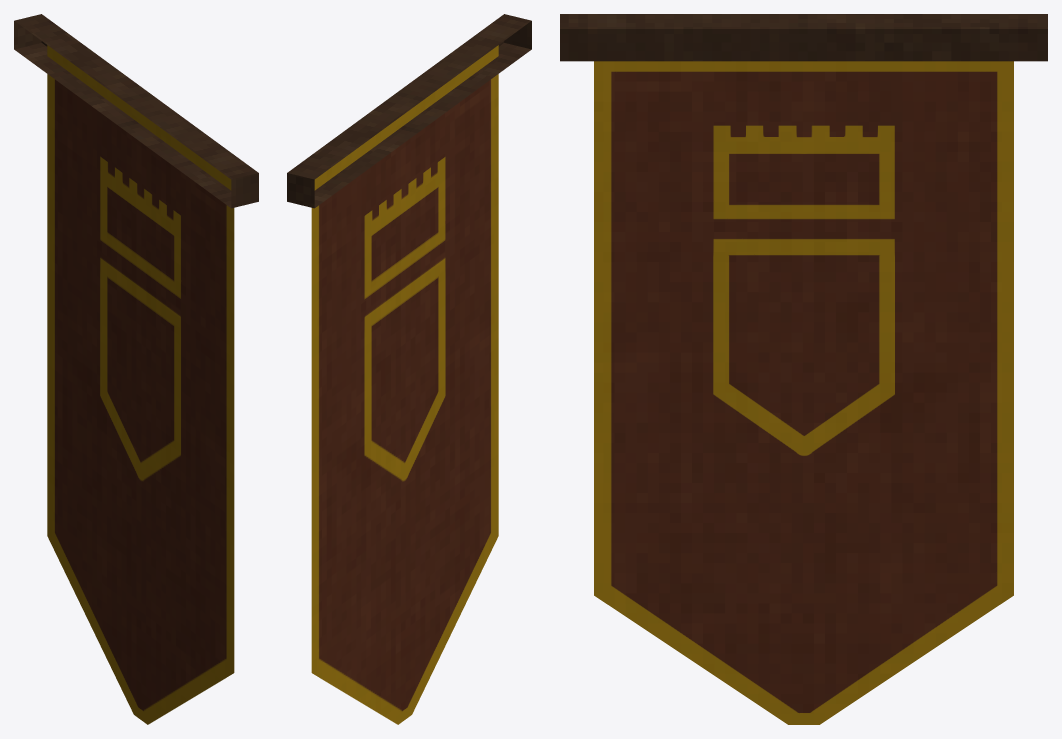
File: Banner.fbx
The picture shows the model from 3 angles, left to right: view 1: azimuth 30°, elevation 25°; view 2: azimuth 150°, elevation 25°; view 3: azimuth 270°, elevation 25°; orthographic projection. The views are drawn at different scales.
Visible parts, largest first — view 1: Banner, Banner Bar; view 2: Banner, Banner Bar; view 3: Banner, Banner Bar.
Part boxes in pixels (box(x1,y1,x2,y2)): Banner: box(47, 45, 234, 724); Banner Bar: box(14, 14, 258, 208); Banner: box(311, 45, 498, 724); Banner Bar: box(287, 14, 531, 208); Banner: box(594, 61, 1013, 724); Banner Bar: box(560, 14, 1047, 61).
Size of the model in its own units: 12.17 by 264 by 166.
Materials: 2 (2 with a texture image).
